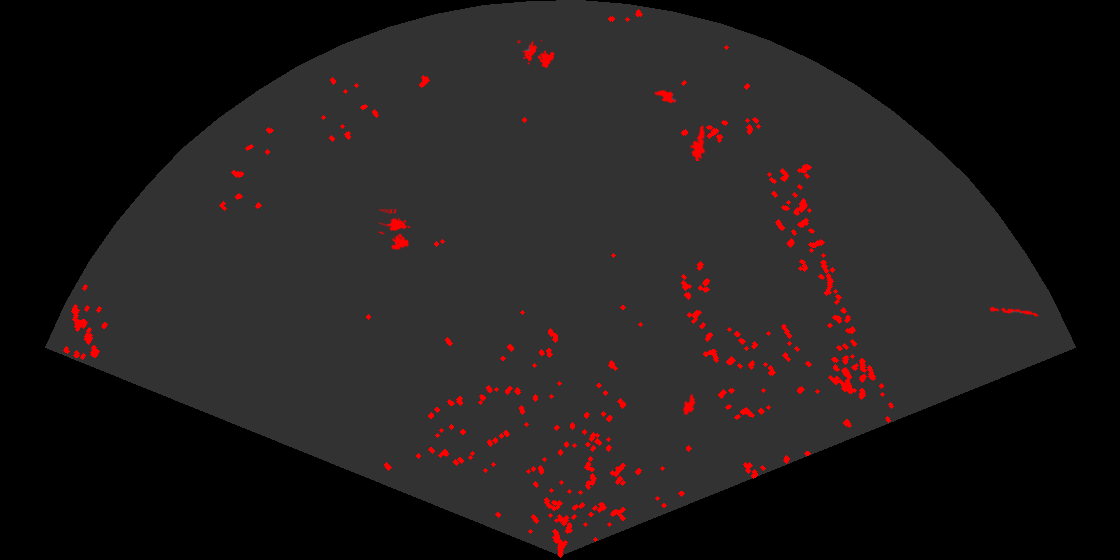AUV: (653, 88, 678, 105), (681, 392, 696, 417)
cage: (379, 209, 412, 251), (517, 40, 556, 70)
chain: (989, 305, 1040, 319)
frogman: (688, 123, 707, 161)
